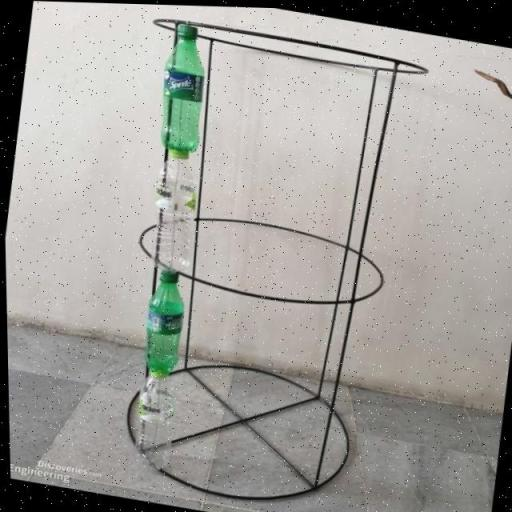plastic: (150, 18, 216, 154), (142, 140, 206, 275), (126, 360, 182, 474), (136, 265, 192, 378)
